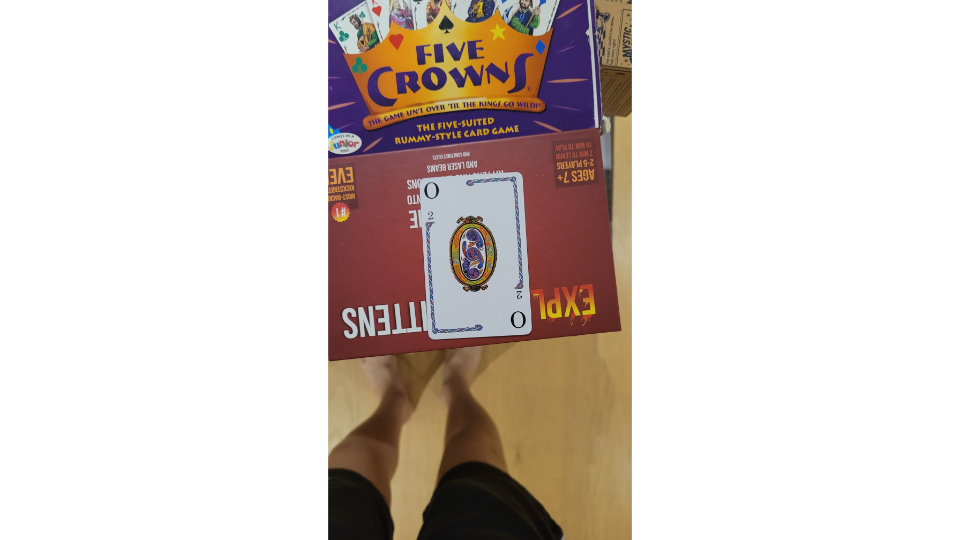O: (417, 170, 537, 343)
